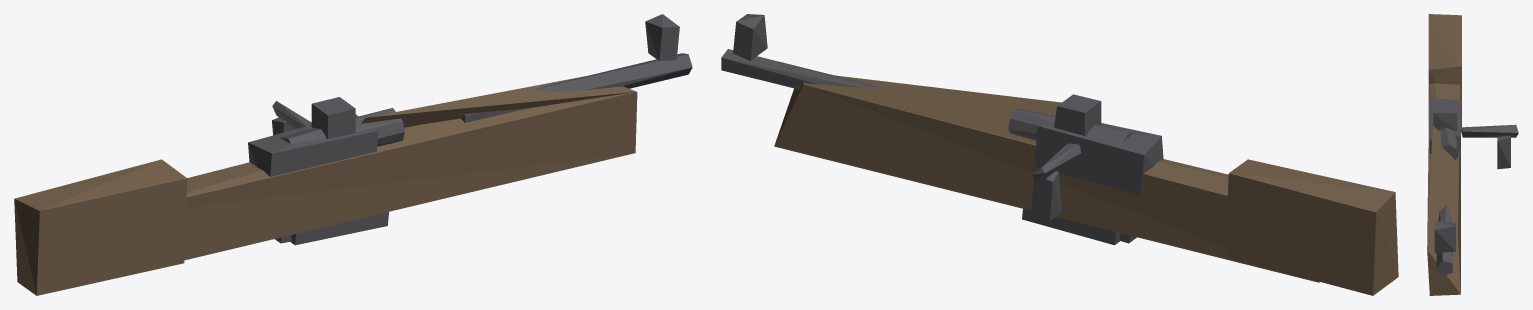
Rendered from weapon_rifle_germany.lod2.glb.
The picture shows the model from 3 angles, left to right: view 1: azimuth 30°, elevation 25°; view 2: azimuth 150°, elevation 25°; view 3: azimuth 270°, elevation 25°; orthographic projection. The views are drawn at different scales.
Bounding box in the file's own units: 0.9654 × 0.18 × 0.156.
